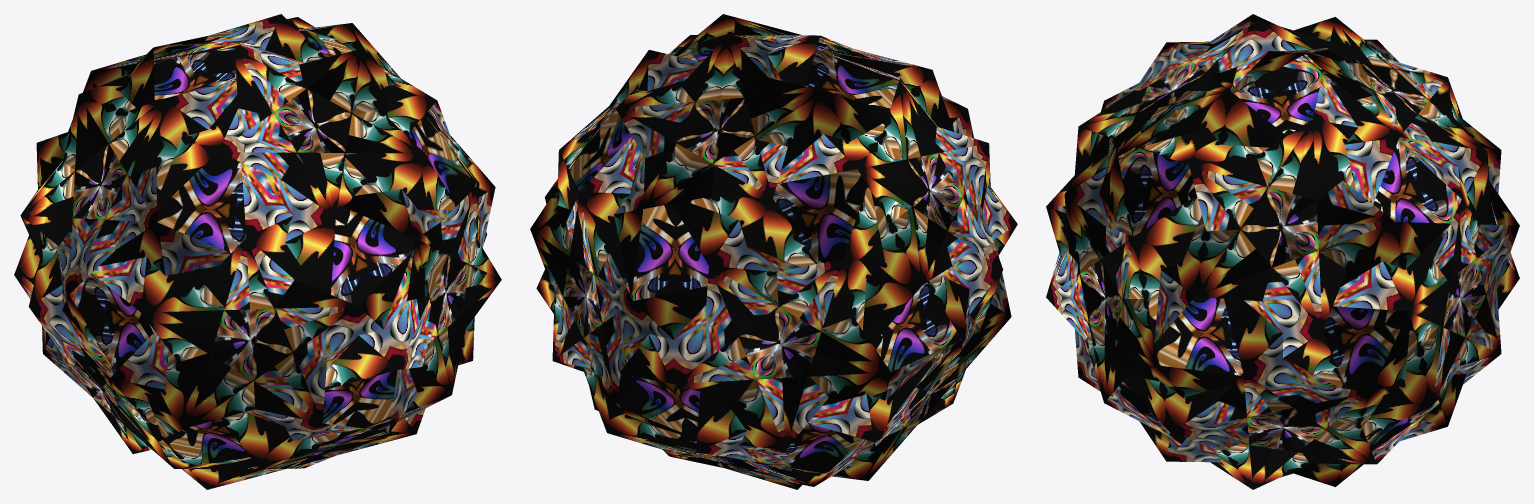
The model's file is SnubIcosidodecadodecahedron12a.gltf.
3 renders of one model, left to right at view 1: azimuth 30°, elevation 25°; view 2: azimuth 150°, elevation 25°; view 3: azimuth 270°, elevation 25°, orthographic.
Parts seen in each view (by area): view 1: SnubIcosidodecadodecahedron12a; view 2: SnubIcosidodecadodecahedron12a; view 3: SnubIcosidodecadodecahedron12a.
Boxes of the visible parts, <box> form: SnubIcosidodecadodecahedron12a: <box>14,14,501,489</box>; SnubIcosidodecadodecahedron12a: <box>530,14,1017,489</box>; SnubIcosidodecadodecahedron12a: <box>1046,14,1519,489</box>.
Size of the model in its own units: 2.21 by 2.21 by 2.21.
Materials: 1 (1 with a texture image).
